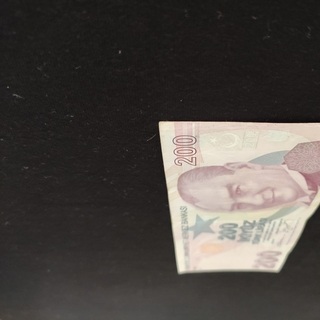200TLFront: (157, 120, 320, 275)
